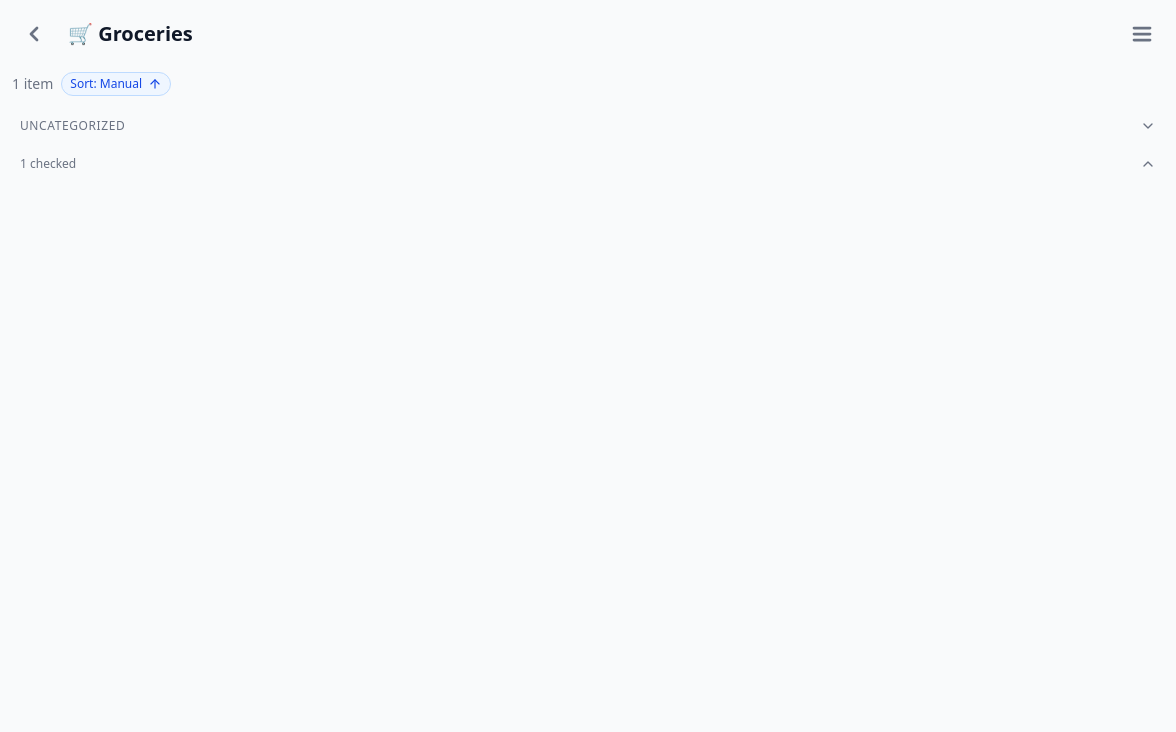
Test: ListPage menu presentation › hides shared mutation controls for viewers while preserving presentation and navigation controls
Expected: the heading "🛒 Groceries" is shown, [68,20,193,47]
Click the button named "List options" at (1142, 34), box [1120,12,1164,56]
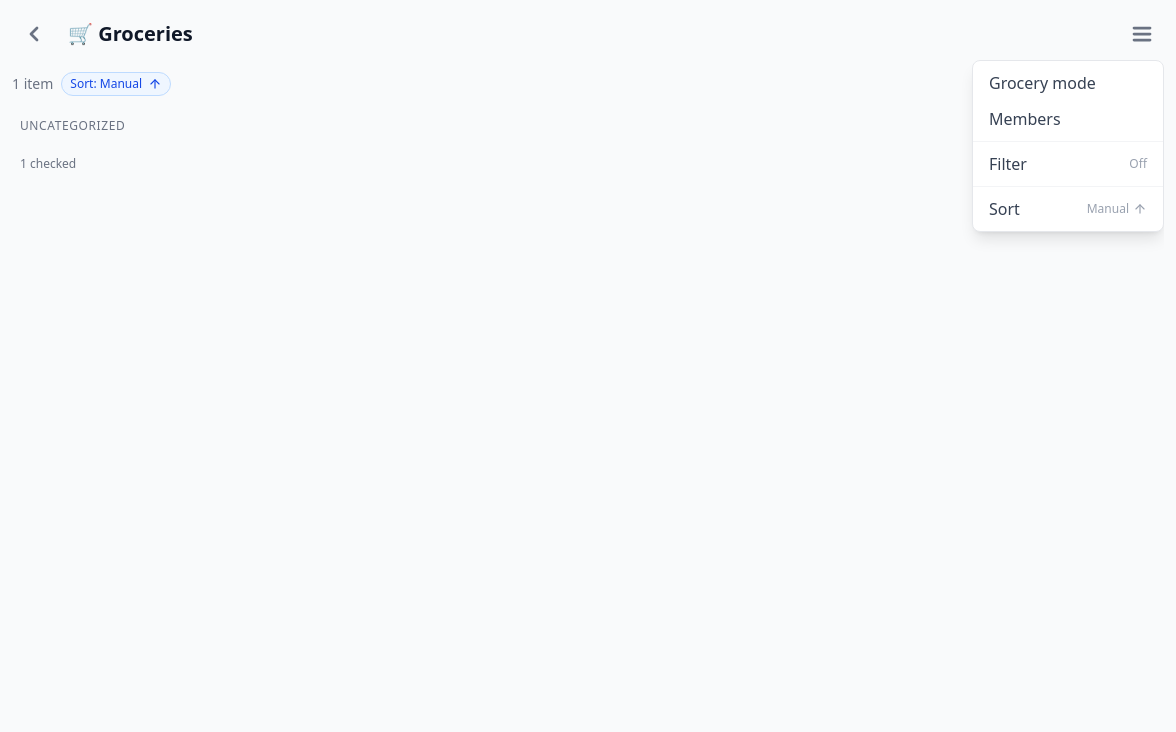
Now the button "Grocery mode" is shown, box [973,65,1163,101]
Now the button "Filter Off" is shown
Now the button "Sort Manual" is shown, box [973,191,1163,227]
Click the button "Filter Off" at (1068, 164), box [973,146,1163,182]
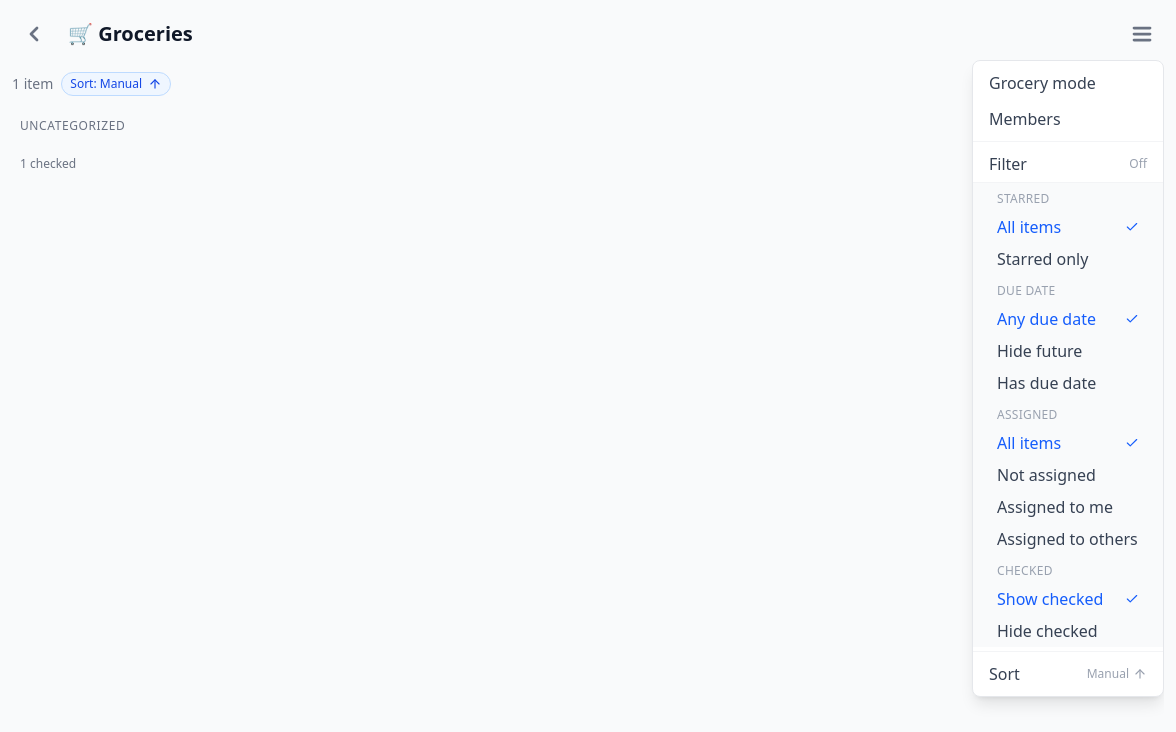
Now the button "Members" is shown, box [973,101,1163,137]
Now the button "Hide checked" is shown, box [973,615,1163,647]
